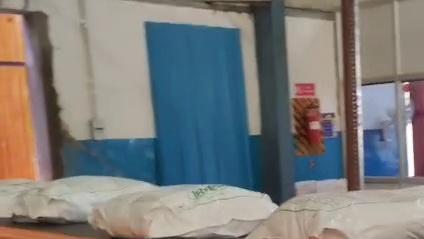box: (89, 184, 276, 239), (243, 186, 424, 239), (11, 176, 156, 222)
